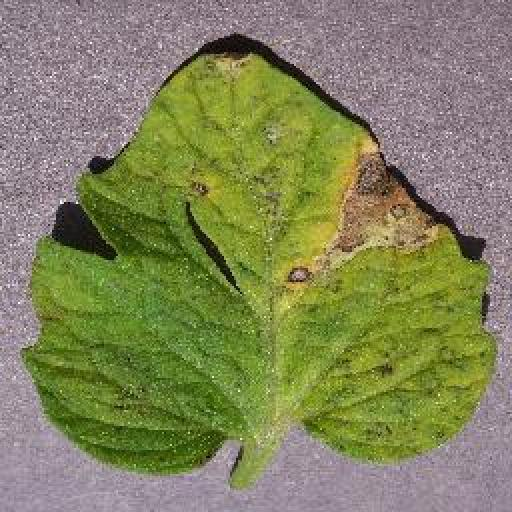Septoria: (26, 46, 493, 474)
